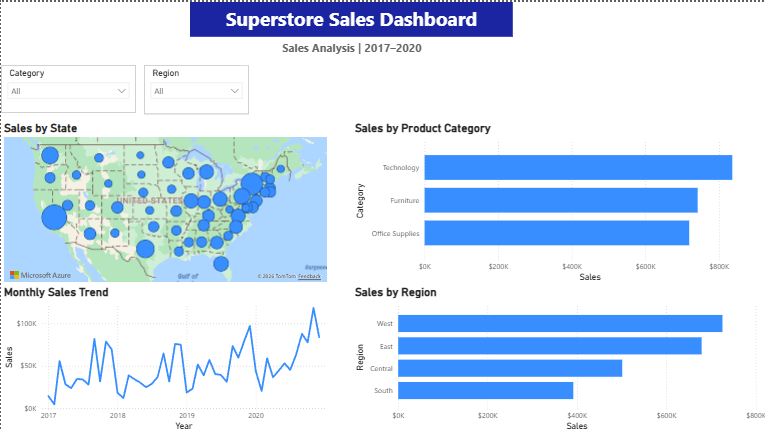

The dashboard page shown, as its layout file describes it:
{"tool":"powerbi","page":{"name":"Regional Performance","canvas":[1280,720],"ordinal":1},"visuals":[{"type":"clusteredBarChart","title":"Sales by Region","fields":{"Category":["superstore_cleaned.Region"],"Y":["Sum(superstore_cleaned.Sales)"]},"box":[585,471.7,695,248.3],"z":0},{"type":"clusteredBarChart","title":"Sales by Product Category","fields":{"Category":["superstore_cleaned.Category"],"Y":["Sum(superstore_cleaned.Sales)"]},"box":[585,198.3,695,273.3],"z":1000},{"type":"lineChart","title":"Monthly Sales Trend","fields":{"Y":["Sum(superstore_cleaned.Sales)"],"Category":["superstore_cleaned.Month Year.Variation.Date Hierarchy.Year","superstore_cleaned.Month Year.Variation.Date Hierarchy.Month"]},"box":[0,471.7,548.3,248.3],"z":2000},{"type":"azureMap","title":"Sales by State","fields":{"Category":["superstore_cleaned.State"],"Size":["Sum(superstore_cleaned.Sales)"]},"box":[0,198.3,548.3,273.3],"z":3000},{"type":"slicer","fields":{"Values":["superstore_cleaned.Region"]},"box":[238.3,105,175,81.7],"z":4000},{"type":"slicer","fields":{"Values":["superstore_cleaned.Category"]},"box":[0,105,225,80],"z":5000},{"type":"textbox","box":[315,0,538.3,58.3],"z":6000},{"type":"textbox","box":[400,58.3,370,46.7],"z":7000}]}

Visuals, with their boxes in screenshot pixels (x1, y1, x2, y2), scaled from the page's 1280x720 canvas onto the 765x431 screenshot:
"Sales by Region" clusteredBarChart: BBox(350, 282, 764, 430)
"Sales by Product Category" clusteredBarChart: BBox(350, 119, 764, 282)
"Monthly Sales Trend" lineChart: BBox(0, 282, 328, 430)
"Sales by State" azureMap: BBox(0, 119, 328, 282)
slicer - superstore_cleaned.Region: BBox(142, 63, 247, 112)
slicer - superstore_cleaned.Category: BBox(0, 63, 134, 111)
textbox: BBox(188, 0, 510, 35)
textbox: BBox(239, 35, 460, 63)
